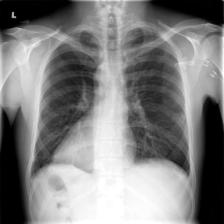normal: (25, 20, 195, 189)
